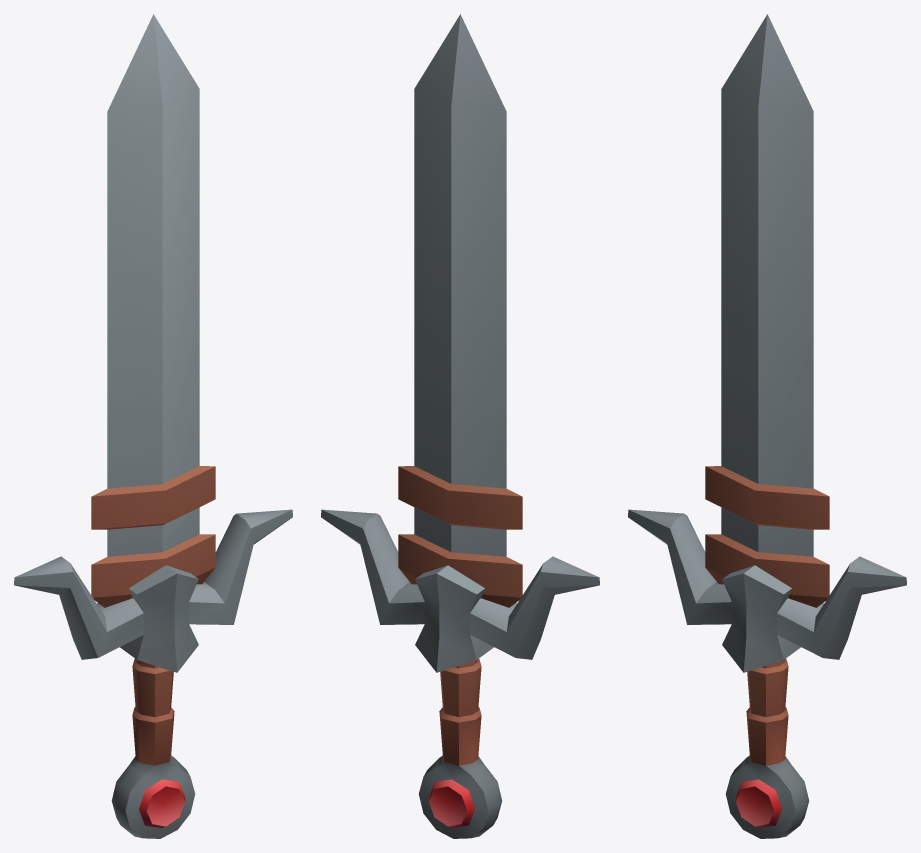
Rendered from sword_2handed.glb.
3 renders of one model, left to right at view 1: azimuth 30°, elevation 25°; view 2: azimuth 150°, elevation 25°; view 3: azimuth 330°, elevation 25°, orthographic.
Visible parts, largest first — view 1: sword_2handed; view 2: sword_2handed; view 3: sword_2handed.
Part boxes in pixels (x1,y1,x2,y2): sword_2handed: (14, 14, 292, 838); sword_2handed: (321, 14, 599, 838); sword_2handed: (628, 14, 906, 838).
Size of the model in its own units: 0.839 by 2.37 by 0.2481.
Materials: 1 (1 with a texture image).
